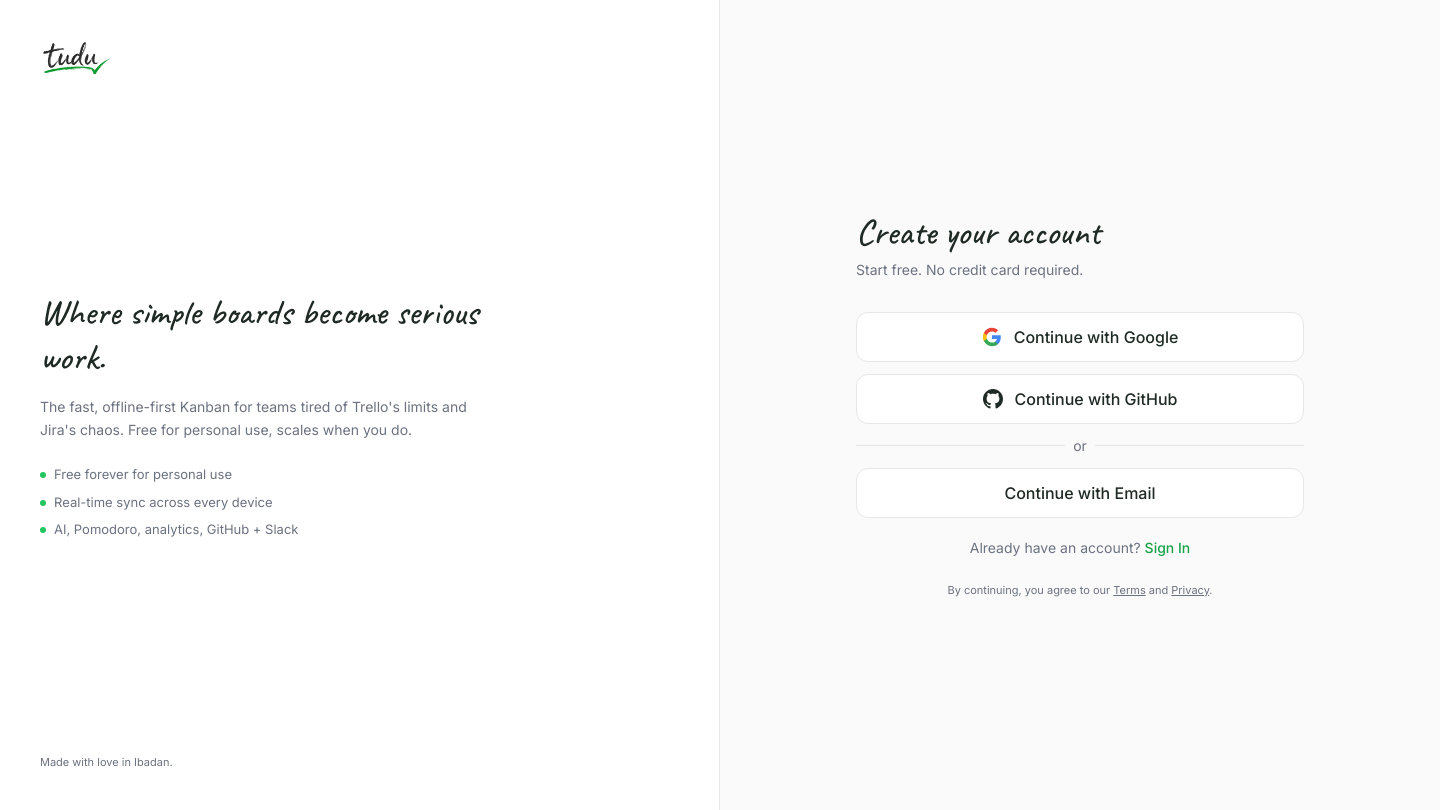
Test case: Login page › shows a Name field when the signup form is opened
This screenshot has width=1440, height=810.
Click the button "Continue with Email".
click(1080, 493)  # box [856,468,1304,518]
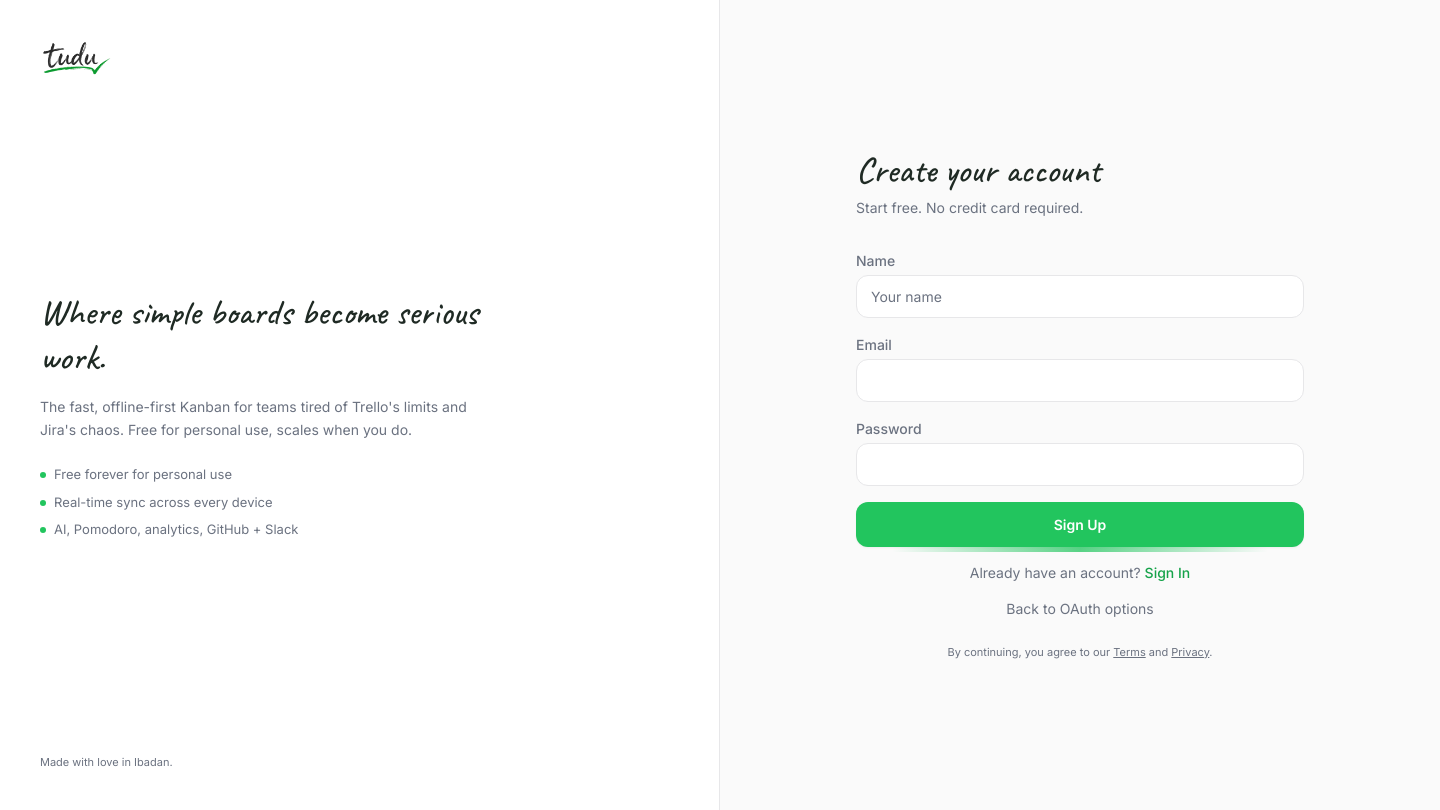
Expected: the field labelled "Name" is shown, [856,275,1304,318]
